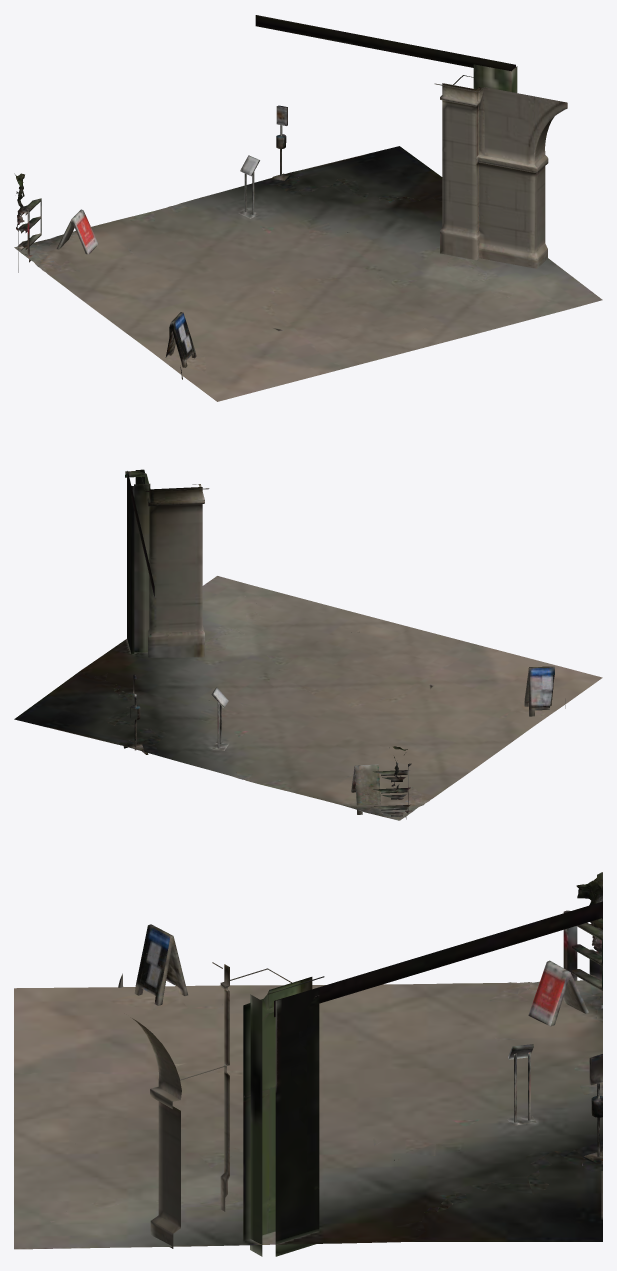
3 views of the same model, one above another, from view 1: azimuth 30°, elevation 25°; view 2: azimuth 150°, elevation 25°; view 3: azimuth 270°, elevation 25° (orthographic). The views are drawn at different scales.
Bounding box in the file's own units: 8.89 × 4.34 × 8.12.
Materials: 1 (1 with a texture image).
